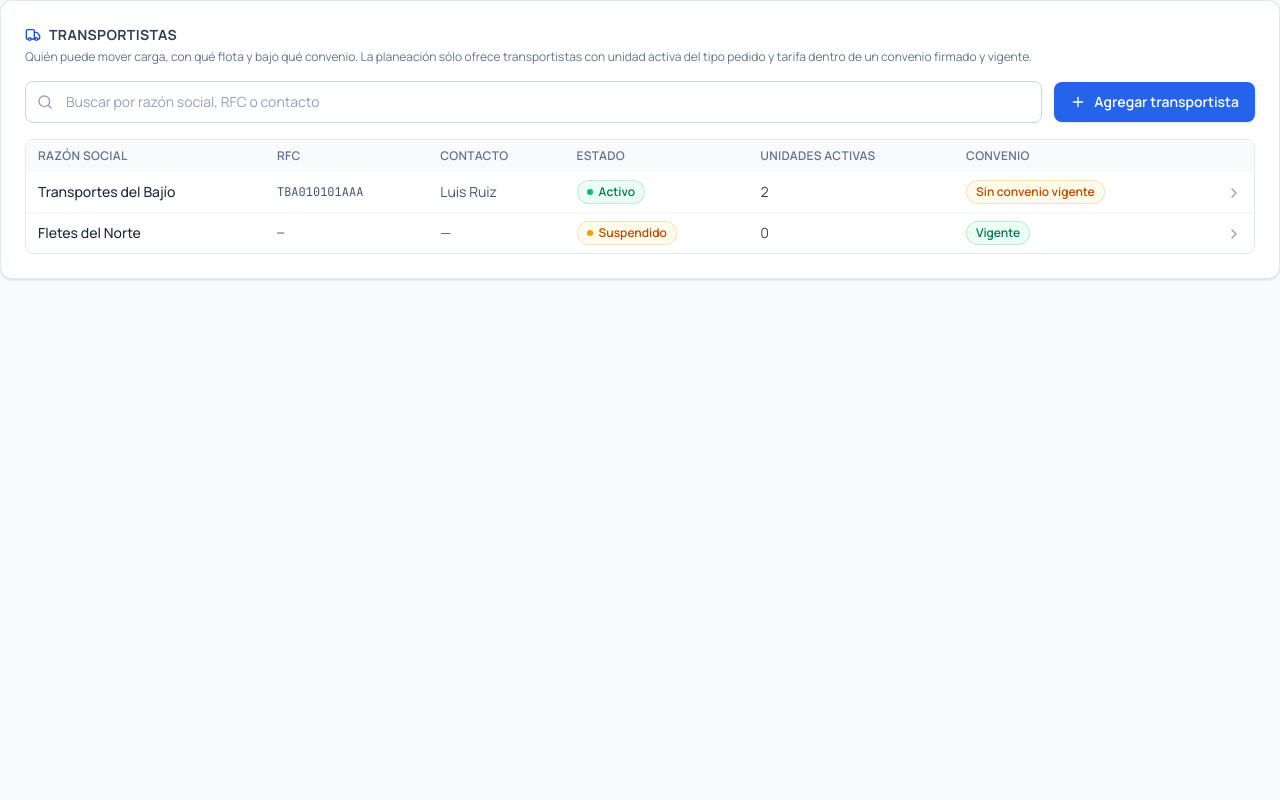
TransportistasTab › drops the warning, and the signing affordance, once the convenio is firmado y vigente
The width and height of the screenshot is (1280, 800).
What coordinates should you click on to do the following:
click the text "Transportes del Bajío"
I would click on:
 (146, 192)
Its box is [26,172,265,212].
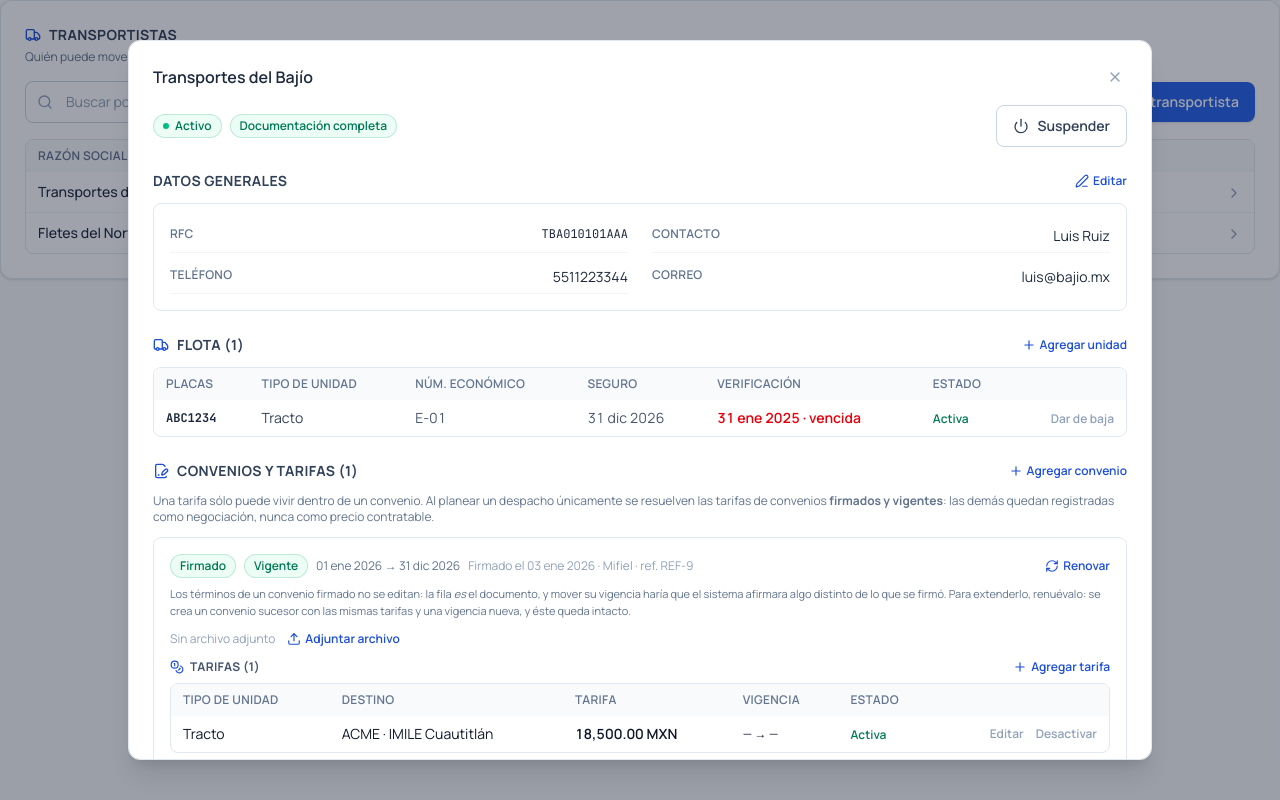
Expected: the text "Firmado" is shown, [170,554,236,578]
